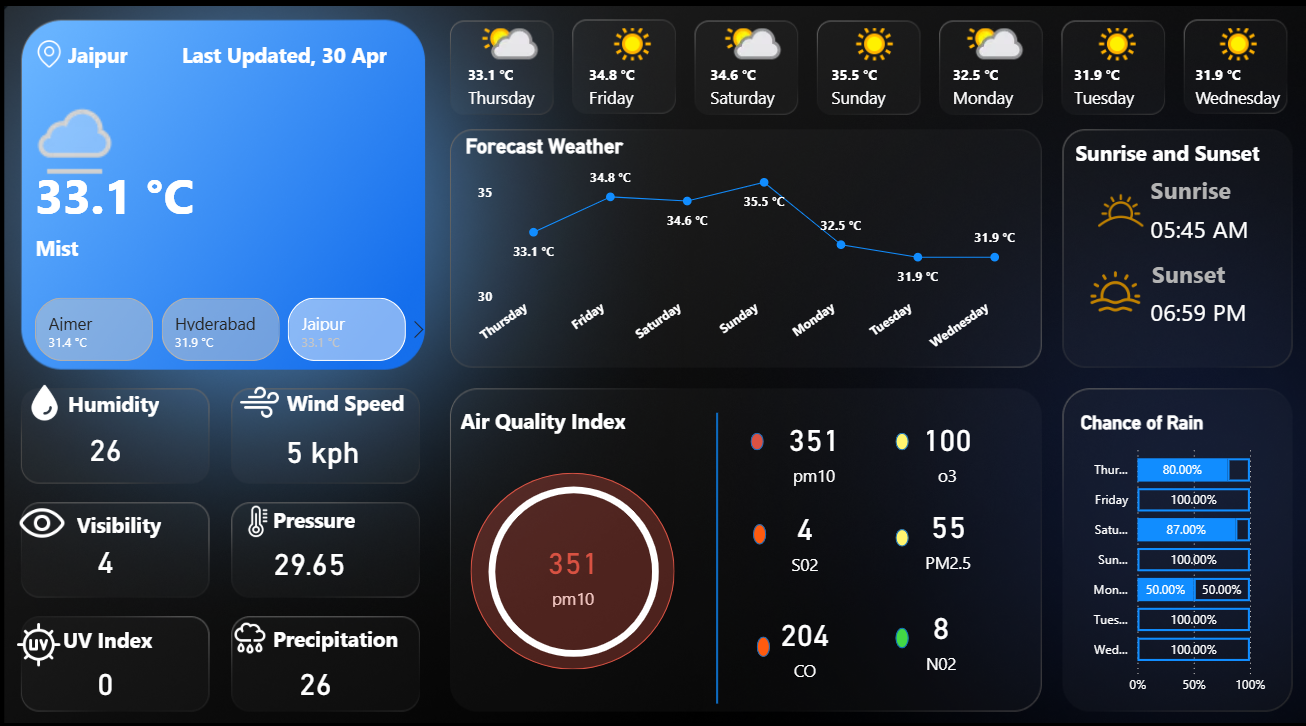

The page's visual inventory and layout, read from the dashboard file:
{"tool":"powerbi","page":{"name":"Page 1","canvas":[1280,720],"ordinal":0},"visuals":[{"type":"advancedSlicerVisual","fields":{"Values":["Locations.location.name"]},"box":[15.1,288.2,410.3,71.4],"z":0},{"type":"shape","box":[41.5,161.9,168.9,62.3],"z":1000},{"type":"shape","box":[41.5,224.2,283.7,38.8],"z":2000},{"type":"shape","box":[41.5,153.6,168.9,80.3],"z":3000},{"type":"shape","box":[72,38.8,112.1,38.8],"z":4000},{"type":"shape","box":[161.9,38.8,218.7,38.8],"z":5000},{"type":"image","box":[41.5,37.4,26.3,40.1],"z":6000},{"type":"cardVisual","fields":{"Data":["Min(Current.current.condition.icon)"]},"box":[0,77.3,210.3,116],"z":7000},{"type":"image","box":[21.6,476.3,51,68],"z":8000},{"type":"shape","box":[80.4,491.7,94.3,38.7],"z":9000},{"type":"image","box":[231.9,374.2,51,40.2],"z":10000},{"type":"shape","box":[283,374.2,142.3,38.7],"z":11000},{"type":"shape","box":[72.7,375.7,112.9,38.7],"z":12000},{"type":"image","box":[30.9,375.7,37.1,38.7],"z":13000},{"type":"image","box":[239.7,487.1,30.9,43.3],"z":14000},{"type":"shape","box":[270.6,487.1,95.9,38.7],"z":15000},{"type":"card","fields":{"Values":["Sum(Current.current.humidity)"]},"box":[80.4,402,55.7,74.2],"z":16000},{"type":"card","fields":{"Values":["_Measures.Wind_Speed"]},"box":[260.9,402.7,114.8,75.1],"z":17000},{"type":"card","fields":{"Values":["Sum(Current.current.vis_km)"]},"box":[80.4,510.3,55.7,74.2],"z":18000},{"type":"card","fields":{"Values":["Sum(Current.current.pressure_in)"]},"box":[256.7,511.8,97.4,74.2],"z":19000},{"type":"card","fields":{"Values":["Sum(Current.current.uv)"]},"box":[80.4,627.8,55.7,74.2],"z":20000},{"type":"card","fields":{"Values":["Sum(Current.current.humidity)"]},"box":[283,627.8,55.7,74.2],"z":21000},{"type":"image","box":[21.6,603,44.8,49.5],"z":22000},{"type":"shape","box":[68,603,123.7,38.7],"z":23000},{"type":"image","box":[225.8,603,44.8,37.1],"z":24000},{"type":"shape","box":[270.6,601.5,126.8,38.7],"z":25000},{"type":"advancedSlicerVisual","fields":{"Values":["Forecast_Day.Day_Name"]},"box":[440.7,26.1,822.2,101],"z":26000},{"type":"lineChart","title":"Forecast Weather","fields":{"Y":["Sum(Forecast_Day.forecast.forecastday.day.avgtemp_c)"],"Category":["Forecast_Day.Day_Name"]},"box":[451.2,135.9,550.5,223],"z":27000},{"type":"shape","box":[1045.2,132.4,217.7,40.1],"z":28000},{"type":"shape","box":[1117.2,208.4,146,35.4],"z":29000},{"type":"shape","box":[1118.7,252.4,146,35.4],"z":30000},{"type":"shape","box":[1117.2,170.1,146,36.9],"z":31000},{"type":"shape","box":[1117.2,287.8,146,35.4],"z":32000},{"type":"image","box":[1059.1,174.4,58.1,68.1],"z":33000},{"type":"image","box":[1059.1,260.9,48.2,52.5],"z":34000},{"type":"hundredPercentStackedBarChart","title":"Chance of Rain","fields":{"Y":["Sum(Forecast_Day.forecast.forecastday.day.daily_chance_of_rain)","Current.Left_value_Rain"],"Category":["Forecast_Day.Day_Name"]},"box":[1044.9,402.7,188.6,282.1],"z":35000},{"type":"shape","box":[450.9,391.3,218.3,41.1],"z":36000},{"type":"card","fields":{"Values":["Sum(Current.current.air_quality.pm10)"]},"box":[744.4,398.4,96.4,83.7],"z":37000},{"type":"card","fields":{"Values":["Sum(Current.current.air_quality.o3)"]},"box":[863.5,402.7,114.8,75.1],"z":38000},{"type":"card","fields":{"Values":["Sum(Current.current.air_quality.pm2_5)"]},"box":[870.5,487.7,102.1,73.7],"z":39000},{"type":"card","fields":{"Values":["Sum(Current.current.air_quality.so2)"]},"box":[725.9,489.1,114.8,75.1],"z":40000},{"type":"card","fields":{"Values":["Sum(Current.current.air_quality.co)"]},"box":[725.9,591.2,114.8,75.1],"z":41000},{"type":"card","fields":{"Values":["Sum(Current.current.air_quality.no2)"]},"box":[857.8,584.1,114.8,75.1],"z":42000},{"type":"shape","box":[731.6,423.9,12.8,17],"z":43000},{"type":"shape","box":[737.3,619.6,12.8,19.8],"z":44000},{"type":"shape","box":[733,511.8,12.8,19.8],"z":45000},{"type":"shape","box":[870.5,423.9,12.8,17],"z":46000},{"type":"shape","box":[870.5,516.1,12.8,17],"z":47000},{"type":"shape","box":[870.5,611.1,12.8,19.8],"z":48000},{"type":"shape","box":[691.9,404.1,12.8,280.7],"z":49000},{"type":"card","fields":{"Values":["Sum(Current.current.air_quality.pm10)"]},"box":[526,521.8,68.1,75.1],"z":50000},{"type":"shape","box":[460.8,462.2,197.1,190],"z":50500},{"type":"donutChart","fields":{"Y":["Sum(Current.current.air_quality.pm10)","_Measures.Left_Value_PM10"]},"box":[429.6,449.4,262.3,215.5],"z":51000}]}

Visuals, with their boxes in screenshot pixels (x1, y1, x2, y2), scaled from the page's 1280x720 canvas onto the 1306x726 screenshot:
advancedSlicerVisual - Locations.location.name: 15,291,434,363
shape: 42,163,215,226
shape: 42,226,332,265
shape: 42,155,215,236
shape: 73,39,188,78
shape: 165,39,388,78
image: 42,38,69,78
cardVisual - Min(Current.current.condition.icon): 0,78,215,195
image: 22,480,74,549
shape: 82,496,178,535
image: 237,377,289,418
shape: 289,377,434,416
shape: 74,379,189,418
image: 32,379,69,418
image: 245,491,276,535
shape: 276,491,374,530
card - Sum(Current.current.humidity): 82,405,139,480
card - _Measures.Wind_Speed: 266,406,383,482
card - Sum(Current.current.vis_km): 82,515,139,589
card - Sum(Current.current.pressure_in): 262,516,361,591
card - Sum(Current.current.uv): 82,633,139,708
card - Sum(Current.current.humidity): 289,633,346,708
image: 22,608,68,658
shape: 69,608,196,647
image: 230,608,276,645
shape: 276,607,405,646
advancedSlicerVisual - Forecast_Day.Day_Name: 450,26,1289,128
"Forecast Weather" lineChart: 460,137,1022,362
shape: 1066,134,1289,174
shape: 1140,210,1289,246
shape: 1141,255,1290,290
shape: 1140,172,1289,209
shape: 1140,290,1289,326
image: 1081,176,1140,245
image: 1081,263,1130,316
"Chance of Rain" hundredPercentStackedBarChart: 1066,406,1259,691
shape: 460,395,683,436
card - Sum(Current.current.air_quality.pm10): 760,402,858,486
card - Sum(Current.current.air_quality.o3): 881,406,998,482
card - Sum(Current.current.air_quality.pm2_5): 888,492,992,566
card - Sum(Current.current.air_quality.so2): 741,493,858,569
card - Sum(Current.current.air_quality.co): 741,596,858,672
card - Sum(Current.current.air_quality.no2): 875,589,992,665
shape: 746,427,760,445
shape: 752,625,765,645
shape: 748,516,761,536
shape: 888,427,901,445
shape: 888,520,901,538
shape: 888,616,901,636
shape: 706,407,719,691
card - Sum(Current.current.air_quality.pm10): 537,526,606,602
shape: 470,466,671,658
donutChart - Sum(Current.current.air_quality.pm10) x _Measures.Left_Value_PM10: 438,453,706,670
